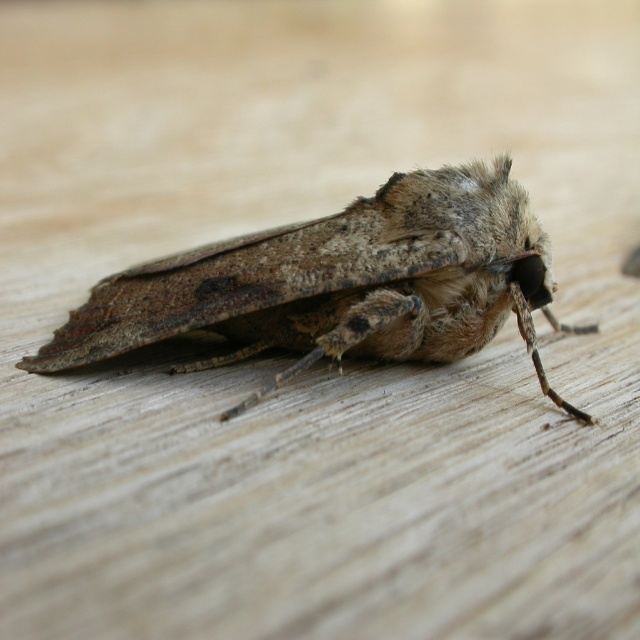Moths and butterflies: (14, 149, 603, 425)
